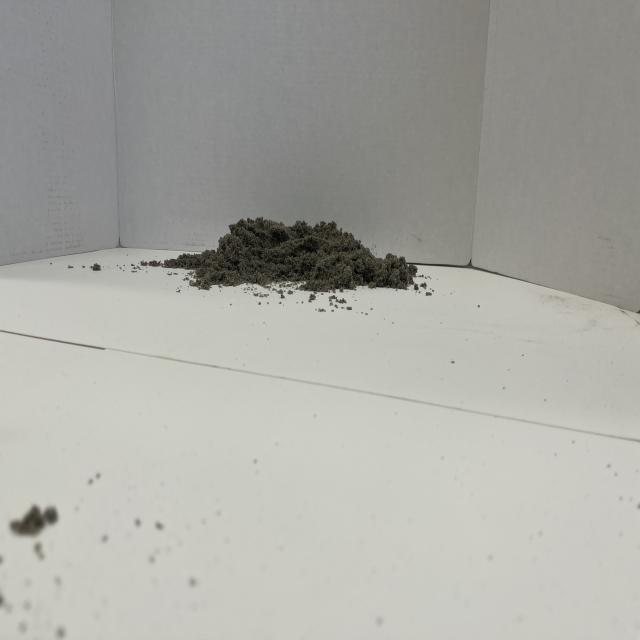sand: (175, 210, 402, 308)
